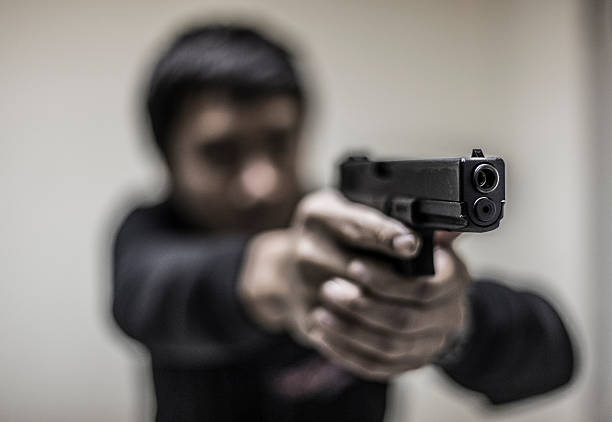pistol: (337, 147, 520, 235)
